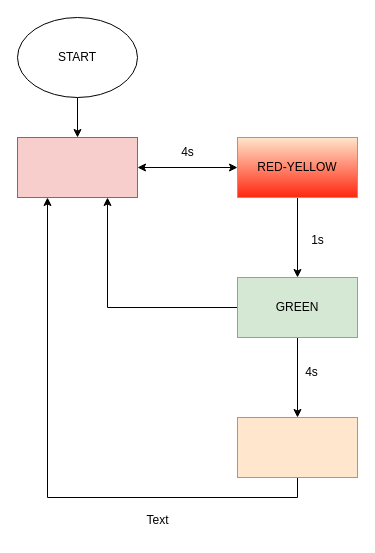
Image size: 375x553. Some labels were removed from this diagram. Here are the shapes that lost their labels. From the top down, the centre of each, then its label:
At [77,167]: "RED".
At [297,447]: "YELLOW".
